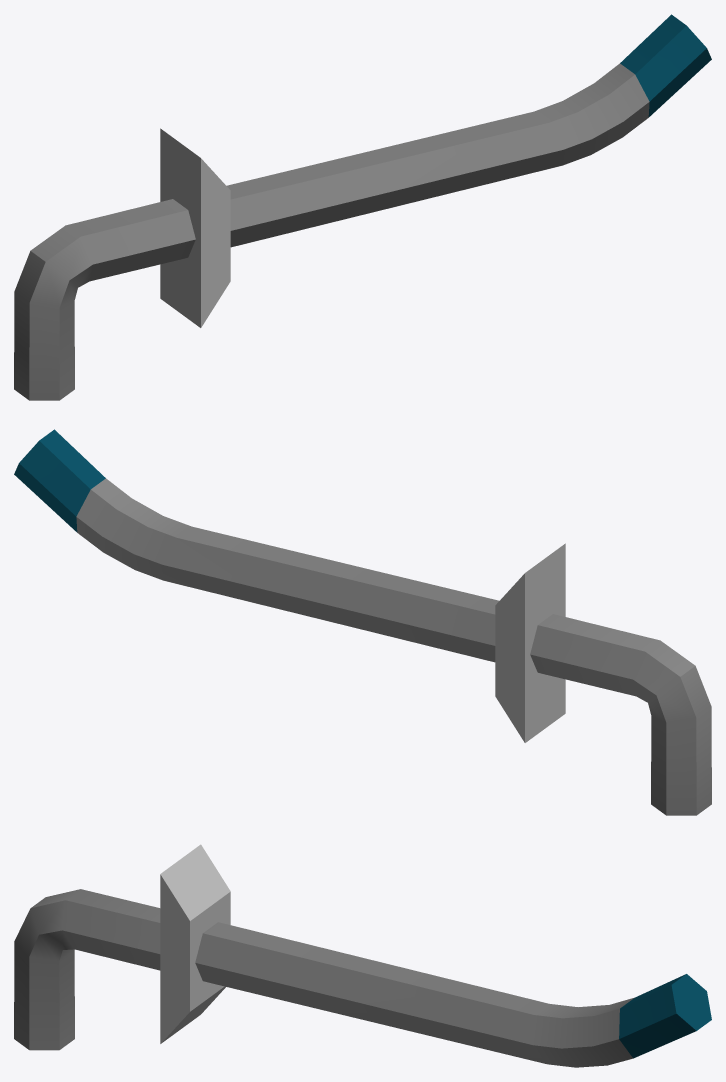
File: Shelf_01_Hanger.glb
3 views of the same model, one above another, from view 1: azimuth 30°, elevation 25°; view 2: azimuth 150°, elevation 25°; view 3: azimuth 330°, elevation 25° (orthographic).
Visible parts, largest first — view 1: Mesh_Shelf_01_Hanger; view 2: Mesh_Shelf_01_Hanger; view 3: Mesh_Shelf_01_Hanger.
Part boxes in pixels (left/top/right/bottom): Mesh_Shelf_01_Hanger: left=14, top=14, right=711, bottom=400; Mesh_Shelf_01_Hanger: left=14, top=429, right=711, bottom=815; Mesh_Shelf_01_Hanger: left=14, top=844, right=711, bottom=1067.
Size of the model in its own units: 0.3668 by 0.1101 by 0.0378.
Materials: 1 (1 with a texture image).
